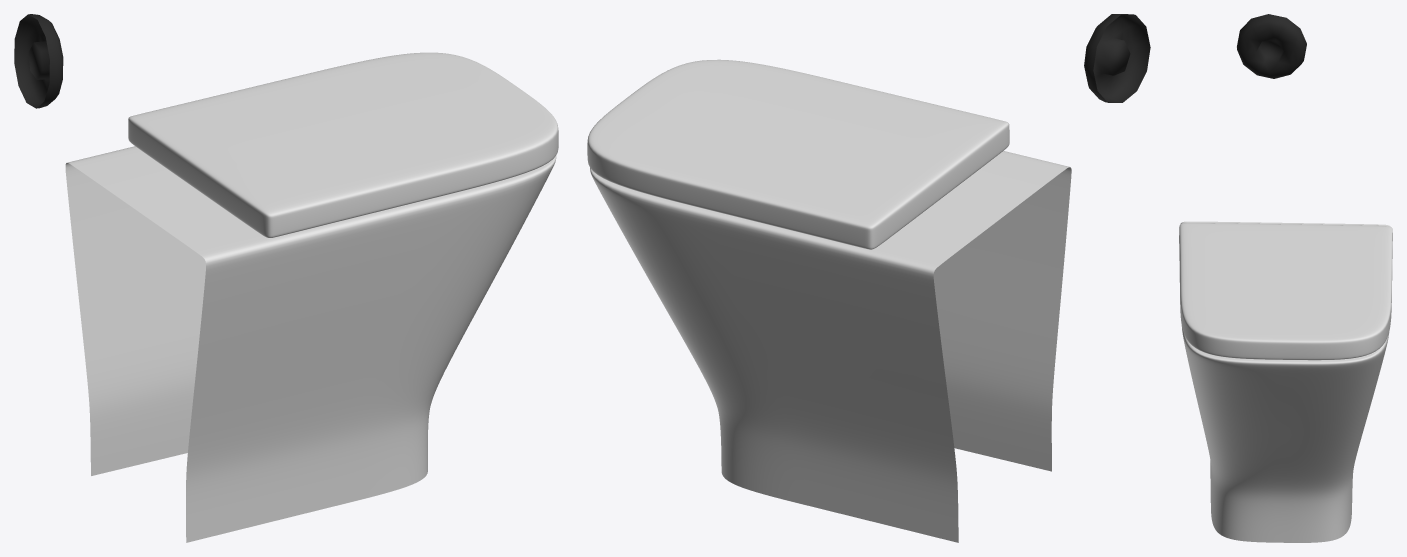
Rendered from Lavatory.obj.
3 renders of one model, left to right at view 1: azimuth 30°, elevation 25°; view 2: azimuth 150°, elevation 25°; view 3: azimuth 270°, elevation 25°, orthographic. The views are drawn at different scales.
Parts seen in each view (by area): view 1: Lavatoru, Lavatory_Button; view 2: Lavatoru, Lavatory_Button; view 3: Lavatoru, Lavatory_Button.
Part boxes in pixels (bbox=[...]): Lavatoru: bbox=[65, 52, 558, 542]; Lavatory_Button: bbox=[14, 14, 63, 108]; Lavatoru: bbox=[587, 59, 1071, 542]; Lavatory_Button: bbox=[1084, 14, 1150, 102]; Lavatoru: bbox=[1179, 221, 1392, 542]; Lavatory_Button: bbox=[1237, 14, 1306, 78].
Bounding box in the file's own units: 24.19 × 24.07 × 11.86.
